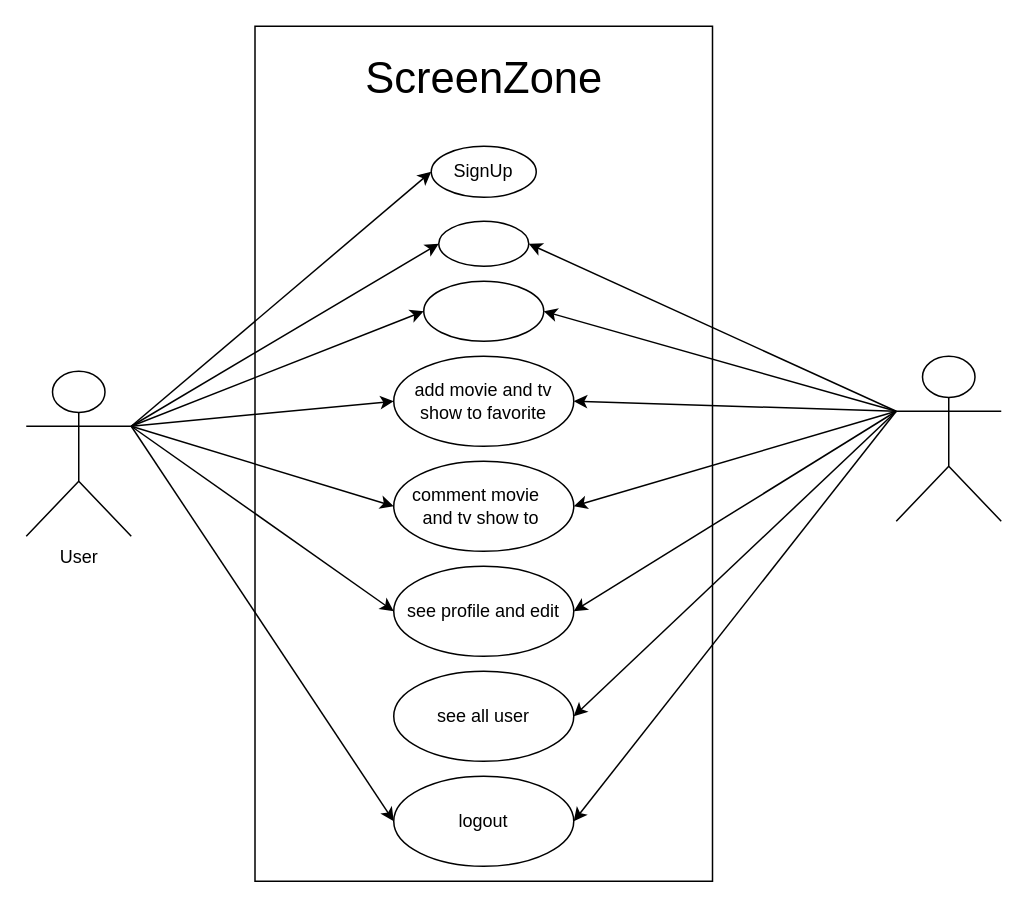
The diagram is 1028 pixels wide and 908 high, and some of its shapes have lost their labels. Each missing label, with the box of its shape:
admin: (895, 355, 1001, 521)
all movie and series: (422, 280, 544, 341)
login: (437, 220, 529, 266)
